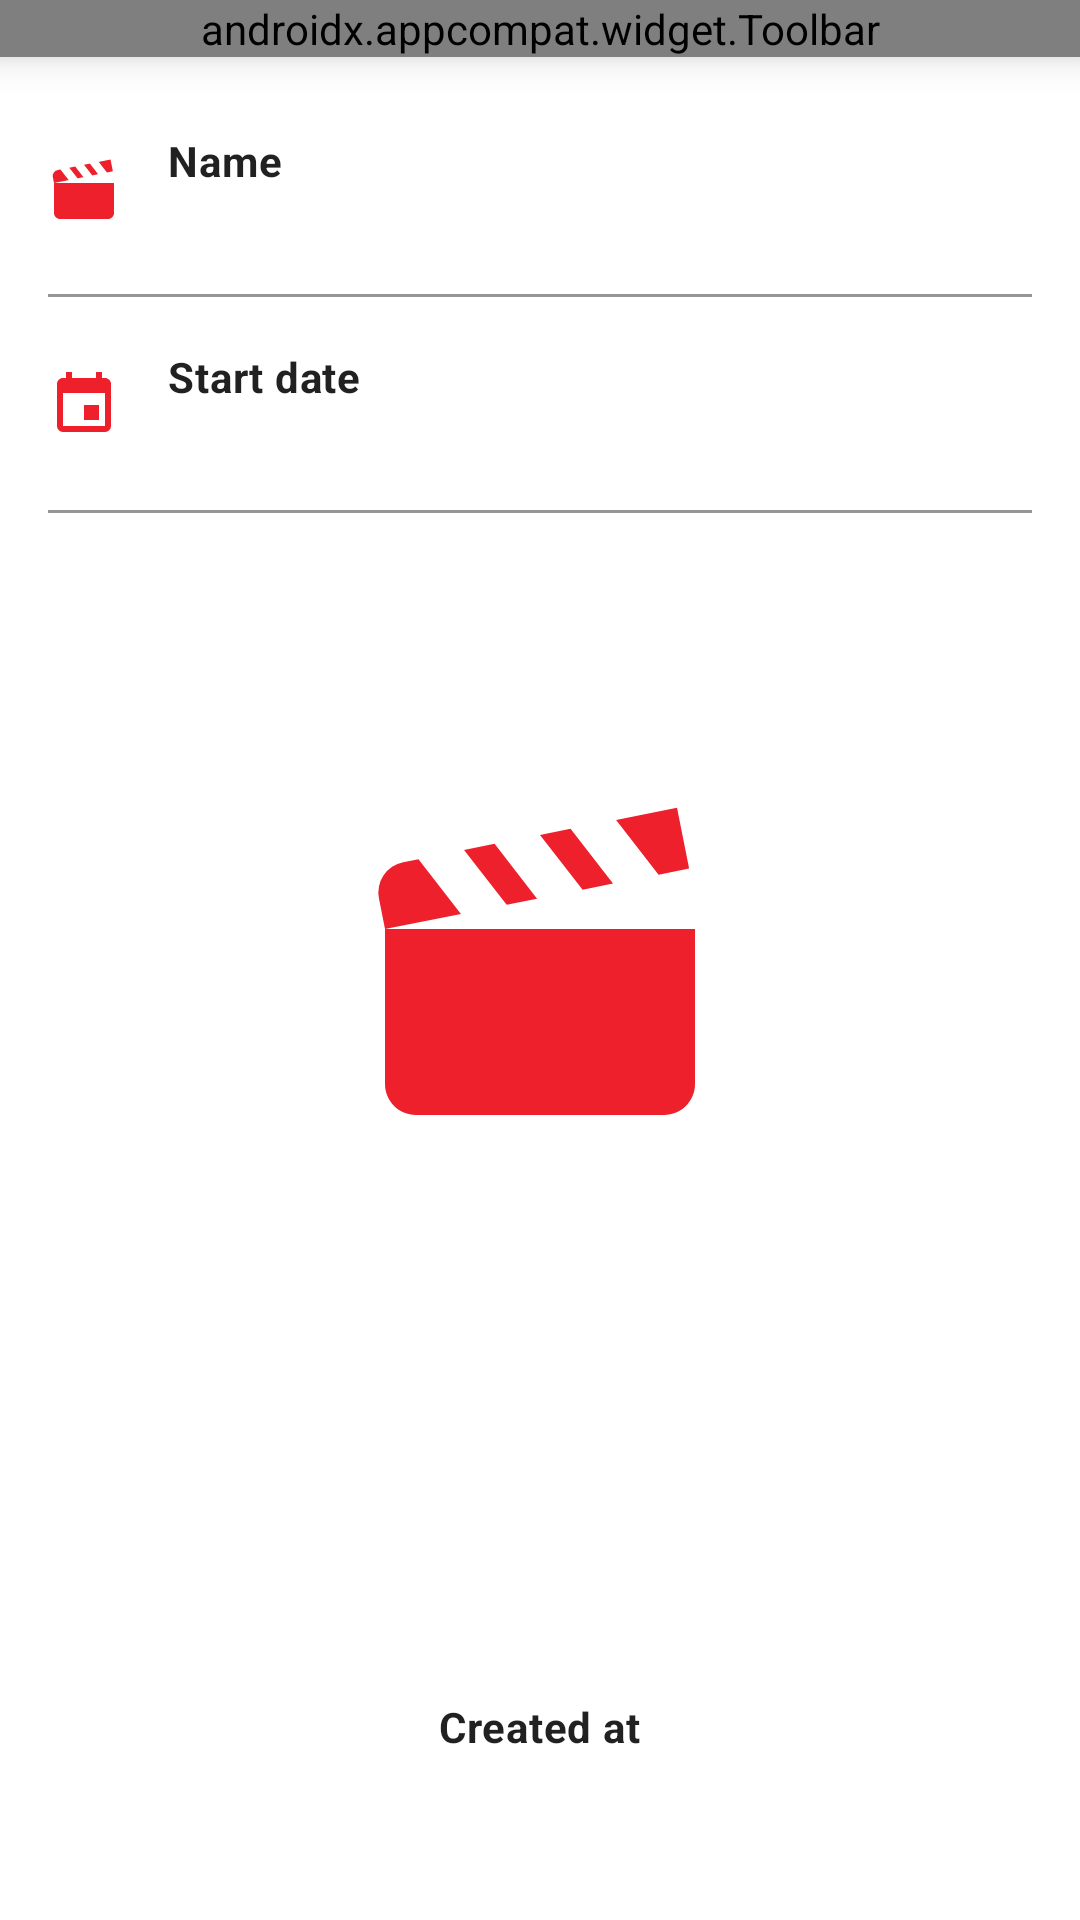

Screen size 1080 x 1920. Icon name, then its center in pixels as (x=x, y=y):
calendar: (x=84, y=402)
